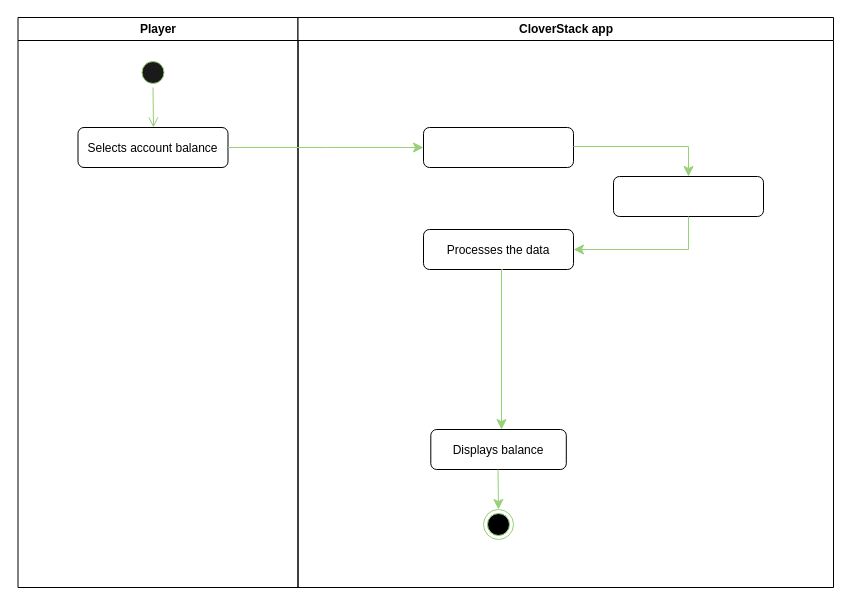
Some shapes in this 851 by 605 pixel diagram are drawn without their labels. Each missing label, with the centre of its shape:
"Requests player's balance data" belongs at pixel 498 147.
"Returns requested data" belongs at pixel 688 196.
